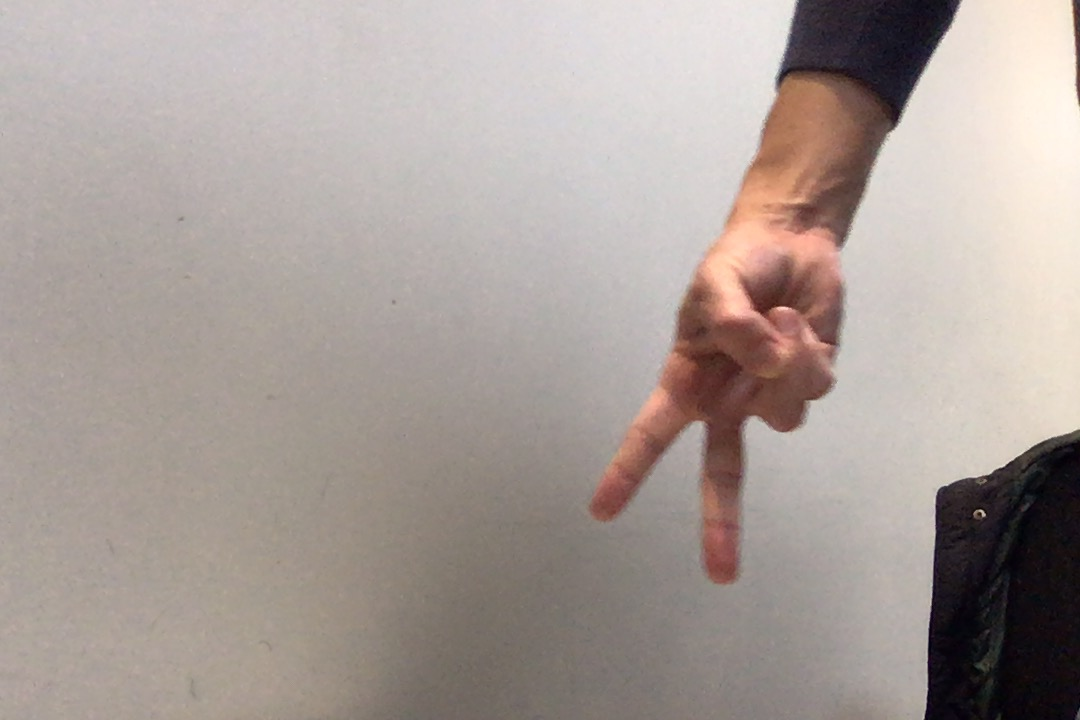peacesign: (582, 226, 848, 589)
